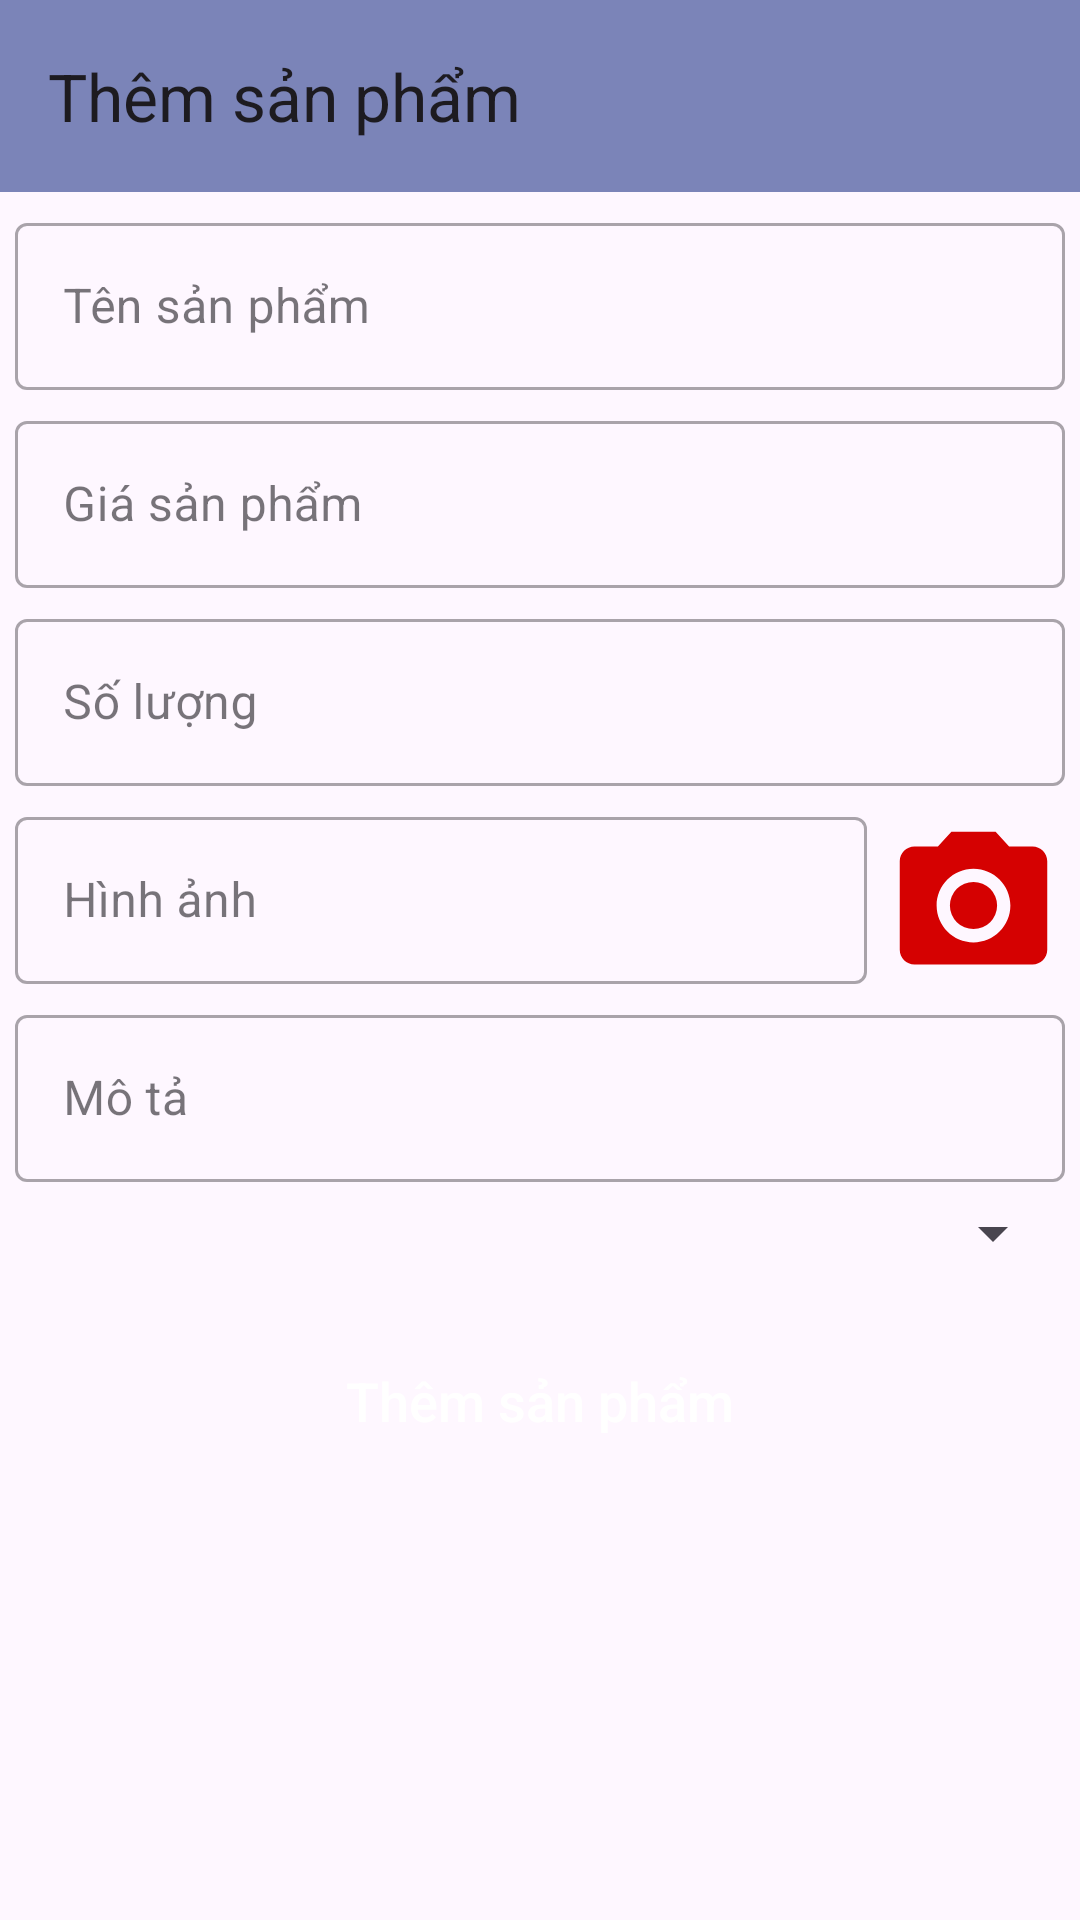

Screen size 1080×1920. Icon name, then its box in pixels as (x1, y1, x2, y2):
camera: (899, 831, 1048, 965)
